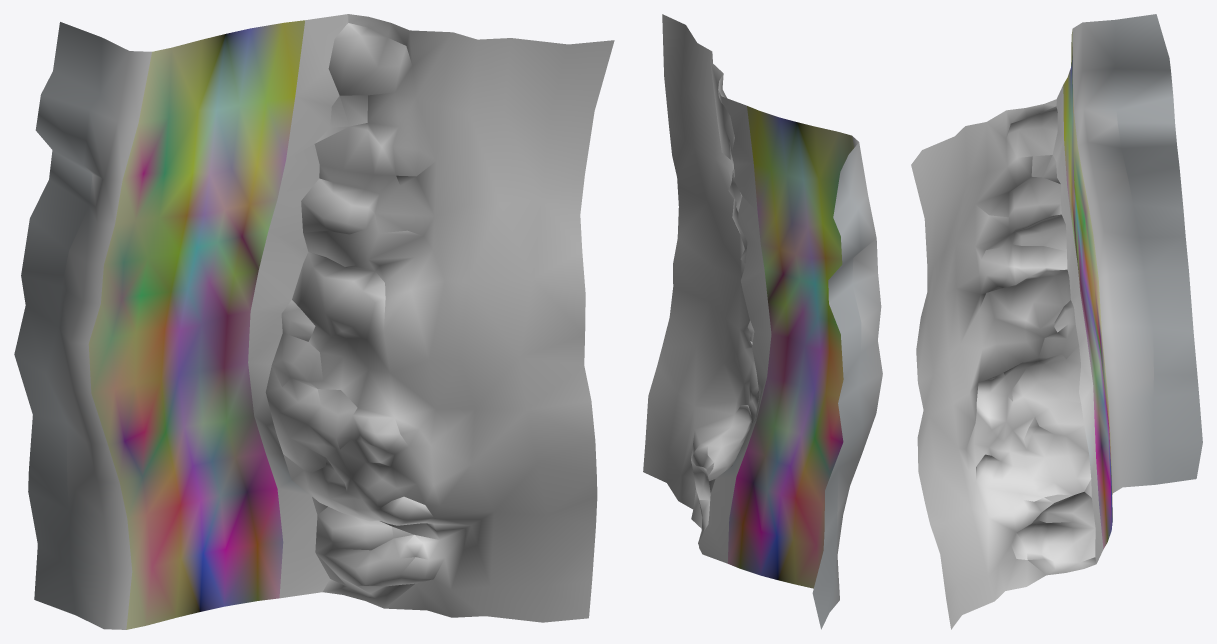
Rendered from Volcano_RampStraightA_lod1.glb.
The picture shows the model from 3 angles, left to right: view 1: azimuth 30°, elevation 25°; view 2: azimuth 150°, elevation 25°; view 3: azimuth 270°, elevation 25°; orthographic projection. The views are drawn at different scales.
Parts seen in each view (by area): view 1: MeshNode_0, MeshNode_1; view 2: MeshNode_0, MeshNode_1; view 3: MeshNode_0, MeshNode_1.
Part boxes in pixels (bbox=[...]): MeshNode_0: bbox=[14, 14, 614, 629]; MeshNode_1: bbox=[88, 20, 305, 629]; MeshNode_0: bbox=[643, 14, 882, 629]; MeshNode_1: bbox=[727, 106, 854, 588]; MeshNode_0: bbox=[911, 14, 1202, 629]; MeshNode_1: bbox=[1063, 29, 1112, 549].
Bounding box in the file's own units: 94.68 × 128 × 72.82.
